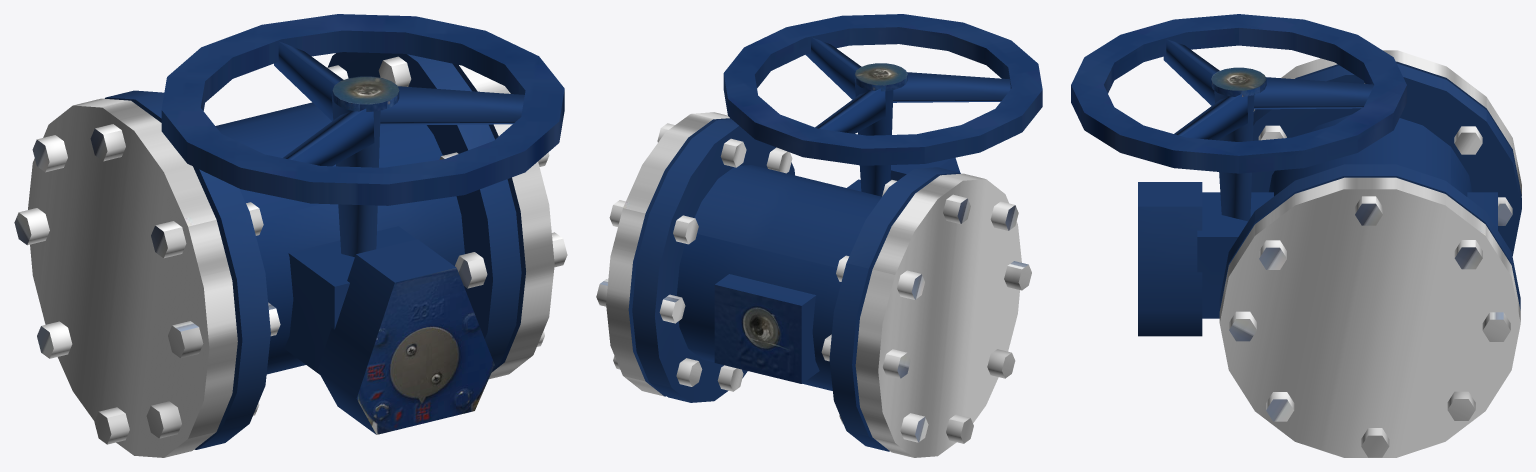
3 views of the same model, side by side, from view 1: azimuth 30°, elevation 25°; view 2: azimuth 150°, elevation 25°; view 3: azimuth 270°, elevation 25° (orthographic). The views are drawn at different scales.
Parts seen in each view (by area): view 1: Cylinder020, Donut001, Box003, Cylinder015, Cylinder006, Cylinder021, Cylinder005, Box002, Cylinder017, Cylinder018, Cylinder016, Cylinder019 (+11 smaller); view 2: Cylinder020, Cylinder015, Donut001, Cylinder006, Box002, Cylinder021, Cylinder005, Cylinder018, Cylinder019, Cylinder016, Cylinder017, Cylinder030 (+15 smaller); view 3: Cylinder005, Donut001, Cylinder021, Box003, Cylinder015, Box002, Cylinder006, Cylinder019, Cylinder020, Cylinder016, Cylinder017, Cylinder018 (+10 smaller).
Boxes of the visible parts, box(x1,y1,x2,y2) form: Cylinder020: box(28, 98, 237, 457); Donut001: box(161, 14, 564, 205); Box003: box(317, 239, 494, 434); Cylinder015: box(215, 102, 464, 374); Cylinder006: box(327, 52, 521, 368); Cylinder021: box(105, 90, 270, 449); Cylinder005: box(453, 63, 554, 379); Box002: box(284, 226, 416, 374); Cylinder017: box(380, 86, 524, 125); Cylinder018: box(283, 108, 374, 166); Cylinder016: box(331, 95, 380, 257); Cylinder019: box(274, 41, 343, 121); Cylinder020: box(855, 173, 1021, 457); Cylinder015: box(676, 165, 881, 390); Donut001: box(723, 14, 1042, 165); Cylinder006: box(632, 119, 794, 402); Box002: box(714, 179, 861, 383); Cylinder021: box(829, 167, 960, 451); Cylinder005: box(606, 112, 731, 396); Cylinder018: box(893, 72, 1010, 102); Cylinder019: box(815, 88, 885, 133); Cylinder016: box(854, 79, 893, 196); Cylinder017: box(805, 37, 861, 99); Cylinder030: box(854, 63, 907, 91); Cylinder005: box(1219, 177, 1520, 457); Donut001: box(1071, 14, 1406, 173); Cylinder021: box(1251, 63, 1521, 255); Box003: box(1138, 182, 1202, 336); Cylinder015: box(1269, 114, 1472, 196); Box002: box(1197, 192, 1497, 318); Cylinder006: box(1219, 164, 1520, 310); Cylinder019: box(1254, 77, 1373, 109); Cylinder020: box(1253, 50, 1521, 195); Cylinder016: box(1214, 91, 1254, 221); Cylinder017: box(1174, 94, 1247, 140); Cylinder018: box(1163, 39, 1219, 105).
Size of the model in its own units: 37.17 by 34.6 by 46.
